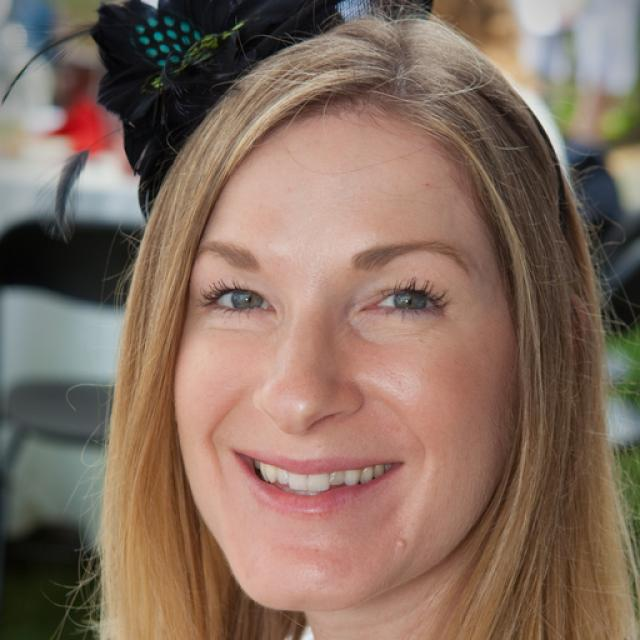Acne: (387, 528, 420, 552)
